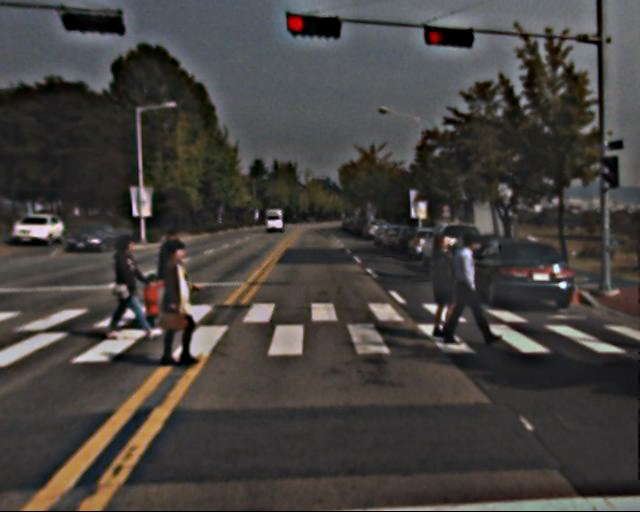person: (155, 239, 207, 365), (444, 232, 493, 351), (424, 234, 469, 343), (109, 236, 152, 341), (151, 230, 192, 329)
